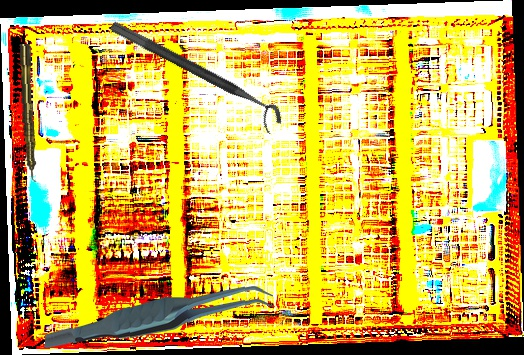Fixation Ring: (101, 19, 288, 137)
Handpiece: (18, 43, 39, 183)
Tissue Forceps: (44, 281, 274, 354)
